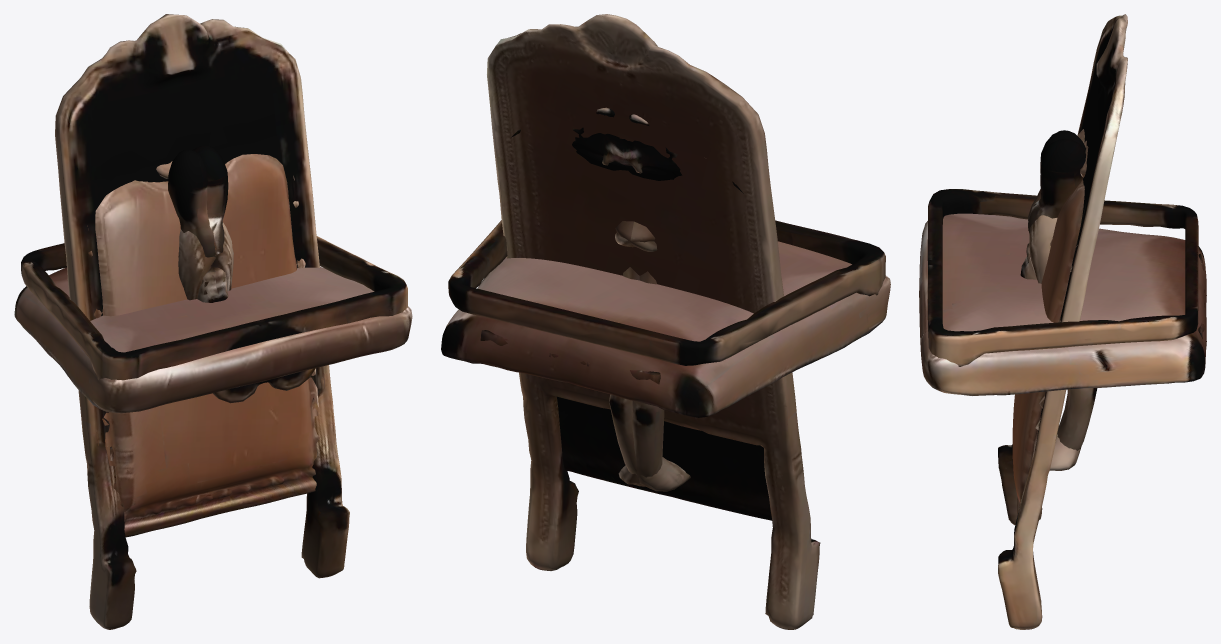
The picture shows the model from 3 angles, left to right: view 1: azimuth 30°, elevation 25°; view 2: azimuth 150°, elevation 25°; view 3: azimuth 270°, elevation 25°; orthographic projection. The views are drawn at different scales.
Visible parts, largest first — view 1: root.0.0, root.0.1, root.1, root.2, root.3, root.4; view 2: root.0.0, root.1, root.2, root.0.1, root.3, root.4; view 3: root.1, root.0.0, root.2, root.0.1, root.4, root.3.
Boxes of the visible parts, x1,y1,x2,y2 form: root.0.0: [55, 14, 349, 629]; root.0.1: [87, 154, 324, 537]; root.1: [14, 266, 412, 413]; root.2: [21, 236, 407, 403]; root.3: [168, 149, 233, 291]; root.4: [178, 146, 228, 300]; root.0.0: [487, 14, 820, 629]; root.1: [441, 241, 890, 417]; root.2: [448, 220, 885, 365]; root.0.1: [511, 107, 772, 520]; root.3: [615, 221, 664, 486]; root.4: [609, 221, 690, 491]; root.1: [919, 213, 1206, 395]; root.0.0: [998, 14, 1127, 629]; root.2: [927, 189, 1198, 366]; root.0.1: [1012, 129, 1088, 515]; root.4: [1028, 138, 1097, 450]; root.3: [1028, 130, 1085, 470].
Size of the model in its own units: 15657 by 26840 by 12667.
Materials: 1 (1 with a texture image).
